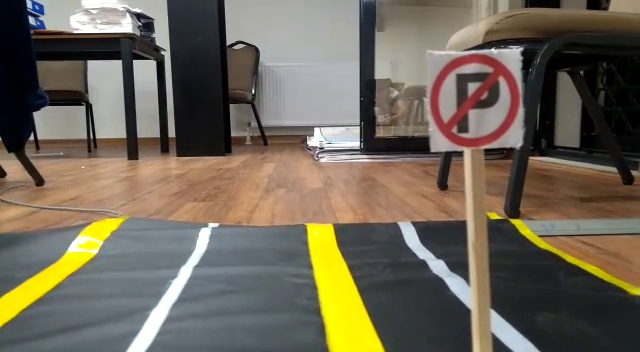park_yapilmaz: (424, 49, 524, 148)
